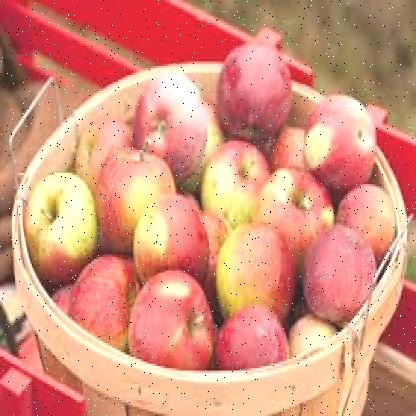apple: (212, 216, 292, 318), (126, 277, 210, 373), (92, 150, 176, 243), (64, 254, 140, 350), (21, 175, 92, 273), (215, 38, 289, 132), (133, 190, 203, 286), (301, 230, 378, 316), (138, 70, 204, 166), (306, 96, 378, 180), (259, 164, 331, 244), (203, 141, 266, 223), (74, 102, 132, 191), (212, 309, 286, 371), (333, 184, 395, 252)
